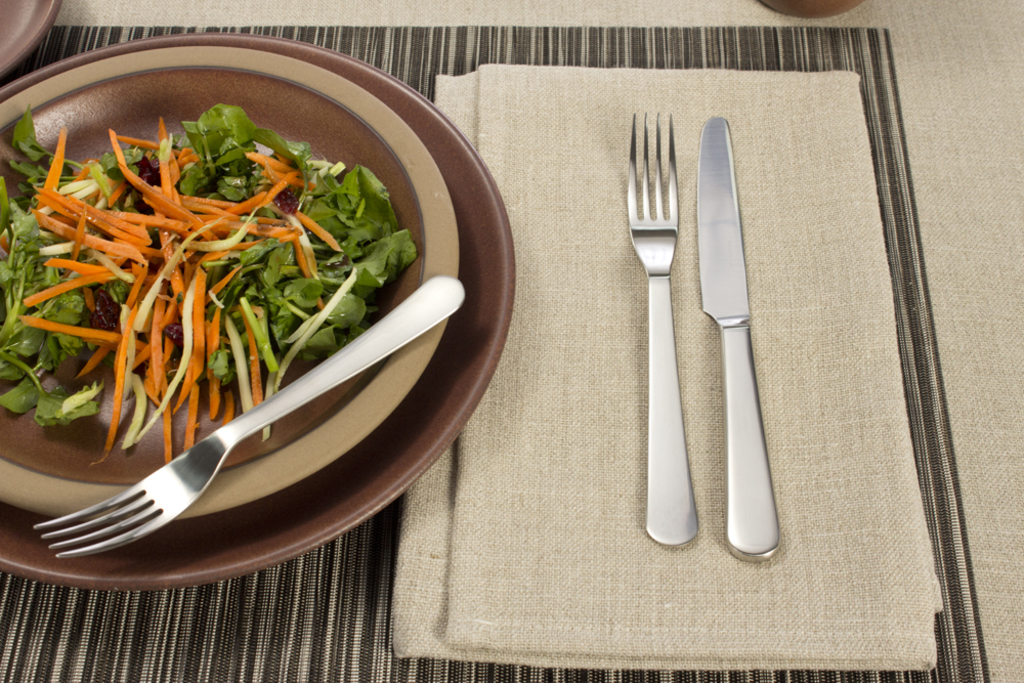Carrot: (18, 120, 346, 464), (168, 261, 204, 414)
